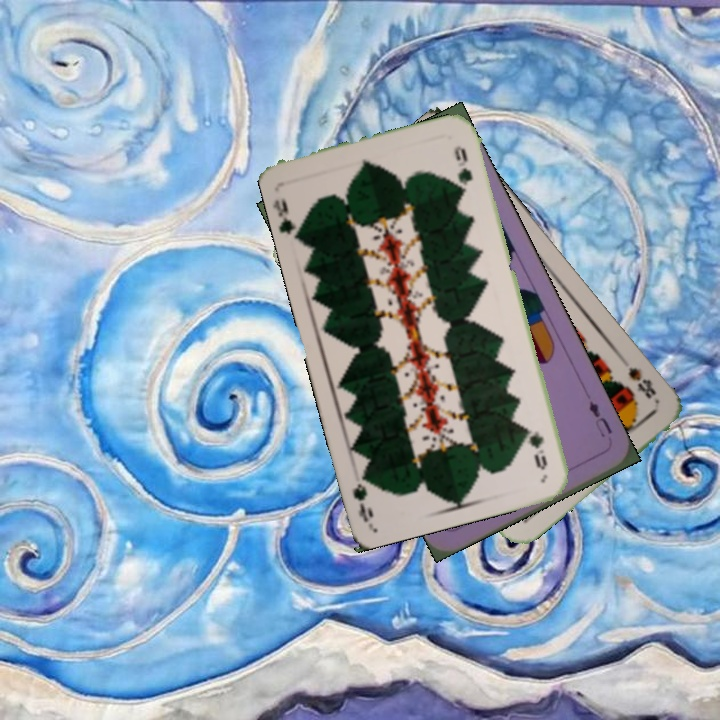EU: (584, 397, 615, 440)
G9: (270, 195, 305, 242), (522, 423, 550, 473)
S8: (624, 363, 659, 402)
